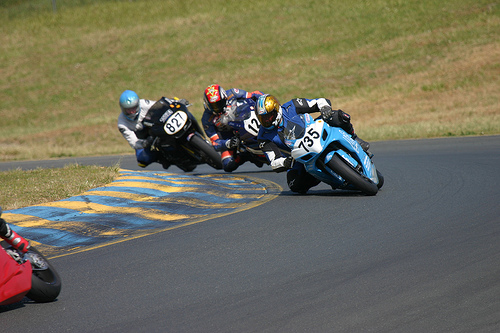helmet: (255, 90, 277, 129), (203, 85, 227, 111), (120, 87, 141, 108)
